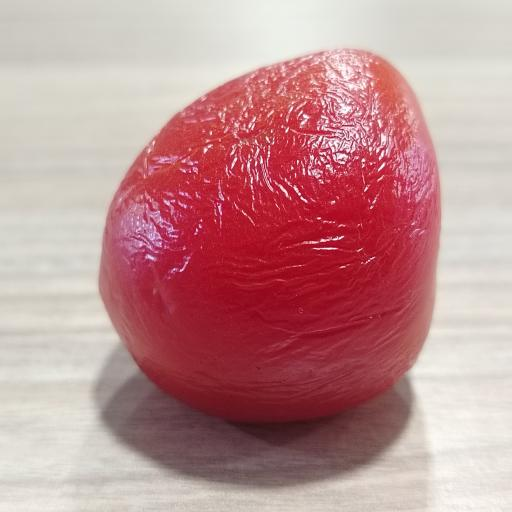spoiled: (100, 50, 440, 422)
